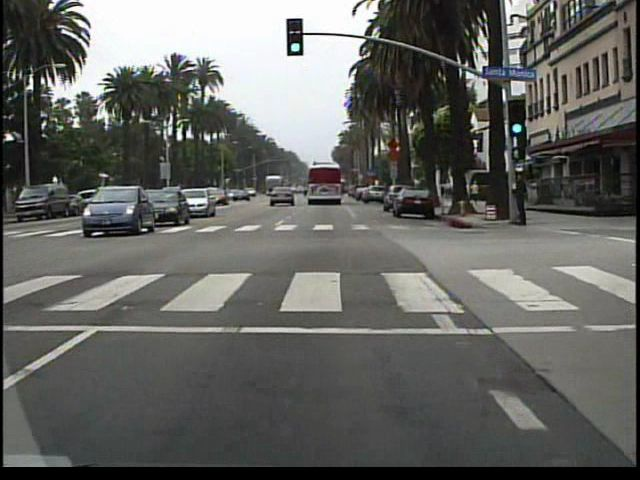person: (511, 170, 530, 228)
